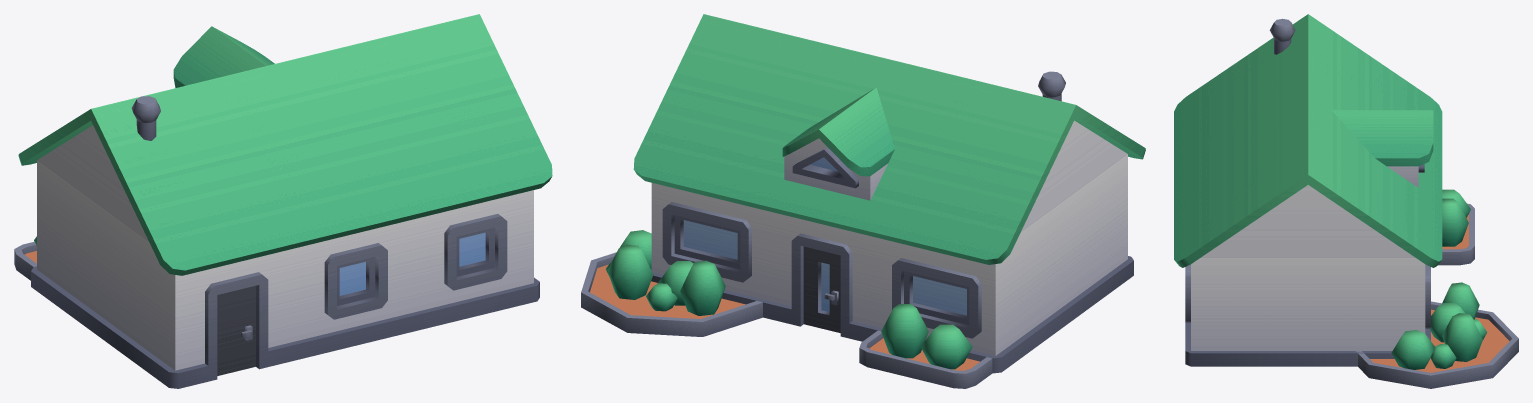
The model's file is building-type-g.glb.
The picture shows the model from 3 angles, left to right: view 1: azimuth 30°, elevation 25°; view 2: azimuth 150°, elevation 25°; view 3: azimuth 270°, elevation 25°; orthographic projection. The views are drawn at different scales.
Visible parts, largest first — view 1: building-type-g; view 2: building-type-g; view 3: building-type-g.
Part boxes in pixels (<box>): building-type-g: <box>14,14,552,388</box>; building-type-g: <box>581,14,1145,388</box>; building-type-g: <box>1174,14,1518,388</box>.
Size of the model in its own units: 1.45 by 0.7686 by 1.18.
Materials: 1 (1 with a texture image).
